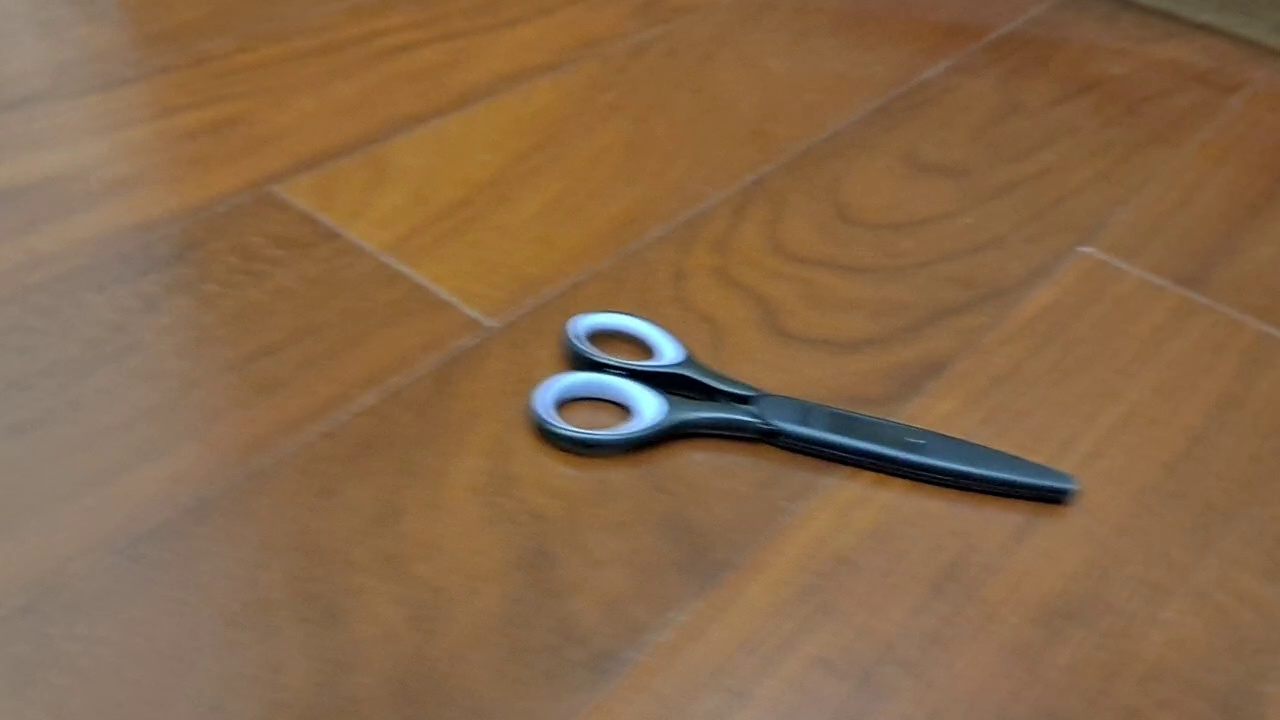scissors: (526, 309, 1083, 507)
